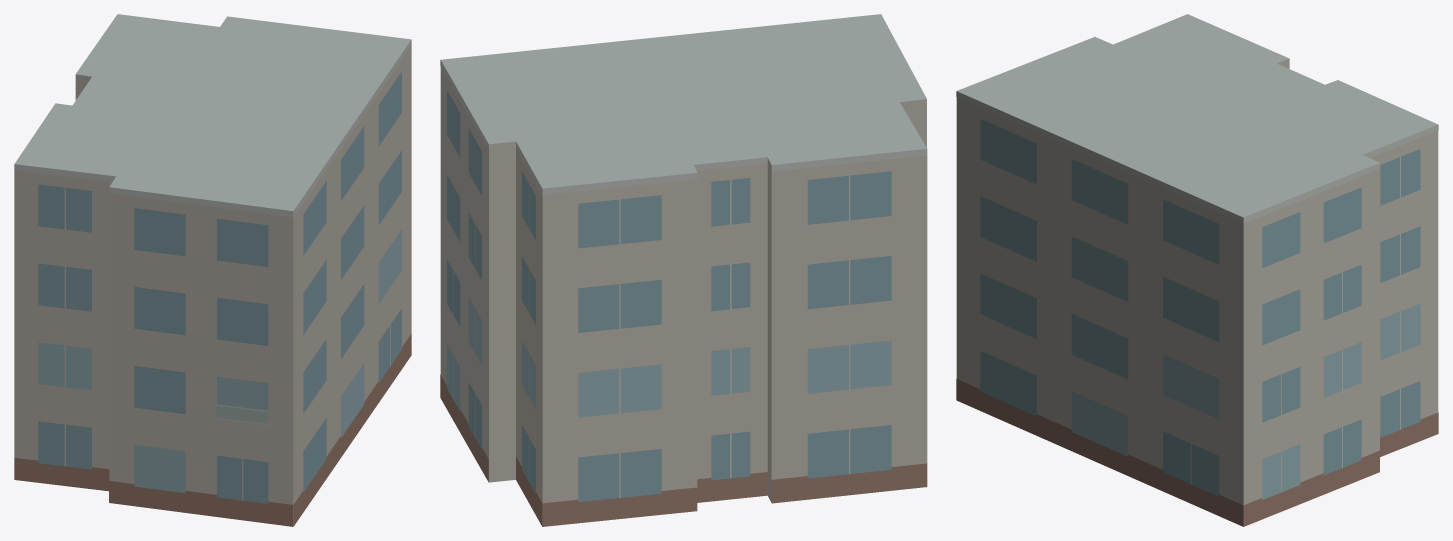
File: survey-upis-32710592.glb
3 renders of one model, left to right at view 1: azimuth 30°, elevation 25°; view 2: azimuth 150°, elevation 25°; view 3: azimuth 270°, elevation 25°, orthographic. The views are drawn at different scales.
Parts seen in each view (by area): view 1: survey-upis-32710592.tmp; view 2: survey-upis-32710592.tmp; view 3: survey-upis-32710592.tmp.
Part boxes in pixels (left/top/right/bottom): survey-upis-32710592.tmp: left=14, top=14, right=411, bottom=526; survey-upis-32710592.tmp: left=440, top=14, right=927, bottom=526; survey-upis-32710592.tmp: left=956, top=14, right=1438, bottom=526.
Size of the model in its own units: 17.59 by 12.46 by 17.6.
